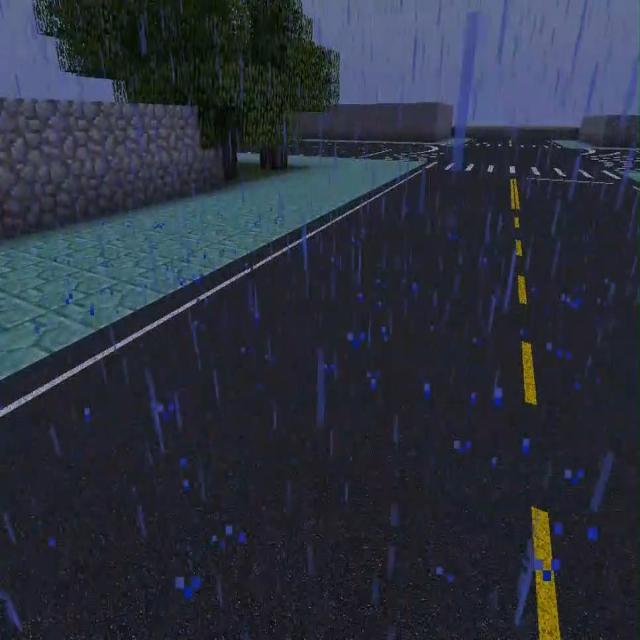8: (424, 162, 622, 178), (582, 153, 638, 170), (461, 143, 564, 150), (397, 147, 448, 159)
crosswalk: (0, 172, 639, 639), (439, 151, 600, 167), (292, 142, 405, 154)
road: (1, 156, 429, 380), (295, 137, 471, 148), (553, 138, 639, 149)
